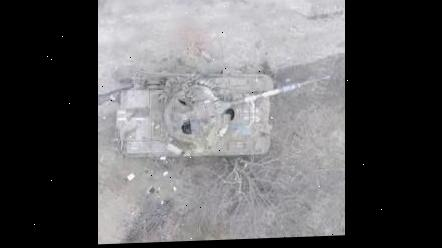tank: (113, 66, 330, 161)
